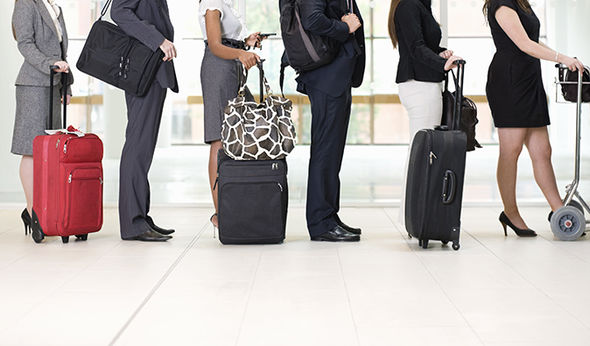luggage: (30, 79, 102, 244), (209, 152, 290, 249), (404, 128, 464, 256)
shoulder bag: (74, 13, 165, 97), (220, 93, 300, 162), (440, 84, 484, 149), (554, 62, 590, 101)
